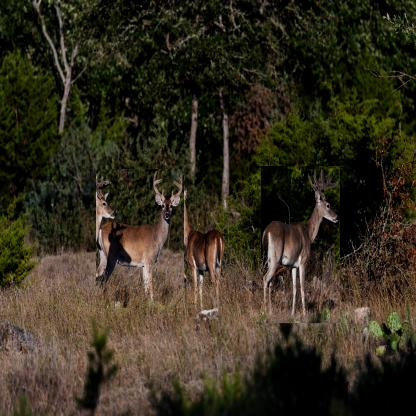Deer: (261, 166, 340, 323), (95, 169, 184, 308), (163, 172, 225, 318)
